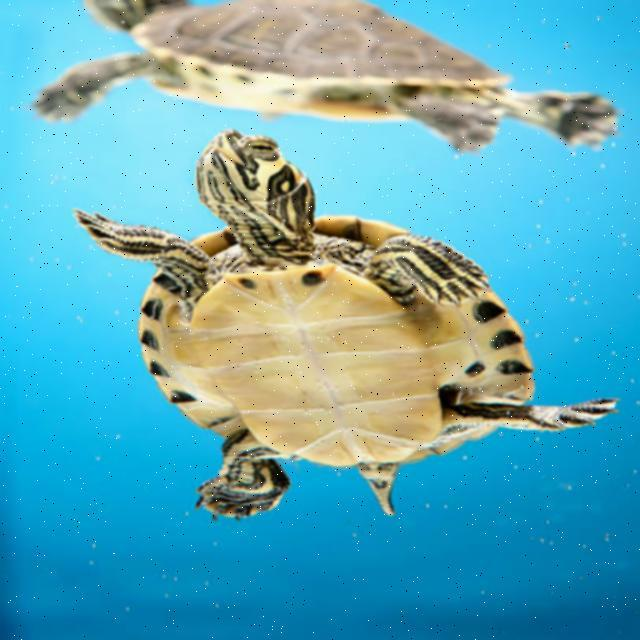tortoise: (71, 134, 621, 506), (45, 0, 623, 140)
